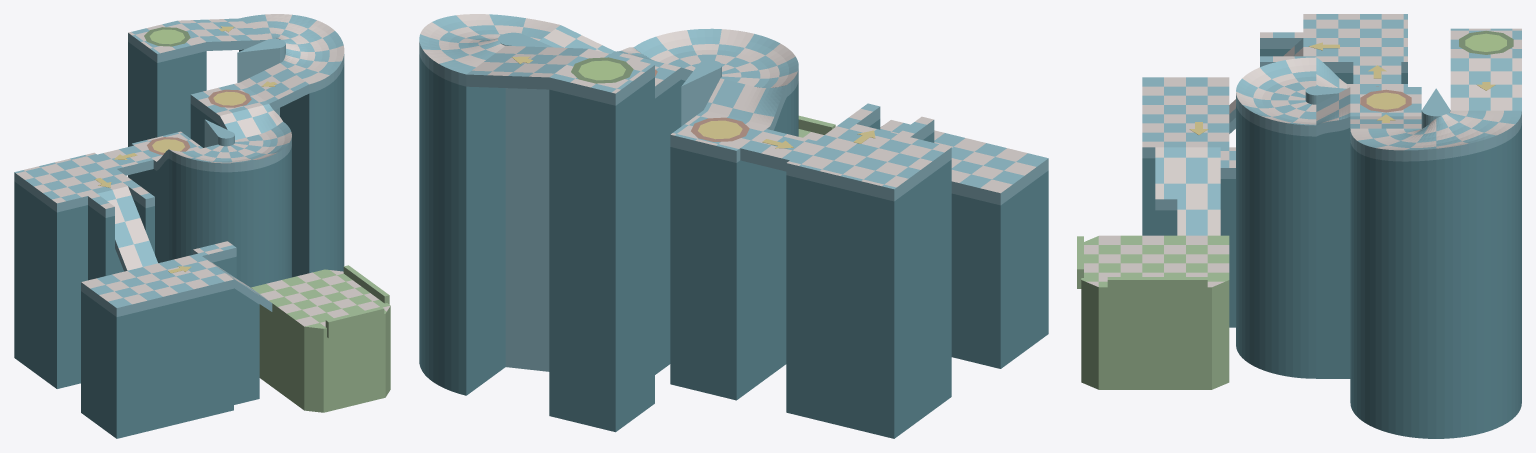
File: level2-desktop.glb
3 views of the same model, side by side, from view 1: azimuth 30°, elevation 25°; view 2: azimuth 150°, elevation 25°; view 3: azimuth 270°, elevation 25° (orthographic). The views are drawn at different scales.
Parts seen in each view (by area): view 1: 加宽中继实体塔台 · 实体台柱, 加宽陡降入口塔台 · 实体台柱, 半圆连接 · 外弧上翘 · 贴合曲面实体塔柱, 紧凑贴柱宽弯 · 贴合曲面实体塔柱, 绿色终点 · 实体台柱, 起点塔台 · 实体台柱, 加宽中继实体塔台, 绿色终点, 紧凑贴柱宽弯, 加宽陡降入口塔台, 半圆连接 · 外弧上翘, 第二方孔前侧斜低边 · 实体台柱 (+18 smaller); view 2: 加宽陡降入口塔台 · 实体台柱, 起点塔台 · 实体台柱, 紧凑贴柱宽弯 · 贴合曲面实体塔柱, 第二存档塔台 · 实体台柱, 加宽中继实体塔台 · 实体台柱, 贴弯尖脊 / 可用作侧墙 (×2), 加宽陡降入口塔台, 半圆连接 · 外弧上翘, 紧凑贴柱宽弯, 加宽中继实体塔台, 第一存档塔台 · 实体台柱, 回转后短斜坡 · 贴合曲面实体塔柱 (+9 smaller); view 3: 紧凑贴柱宽弯 · 贴合曲面实体塔柱, 半圆连接 · 外弧上翘 · 贴合曲面实体塔柱, 绿色终点 · 实体台柱, 回转前短斜坡 · 贴合曲面实体塔柱, 绿色终点, 加宽中继实体塔台, 紧凑贴柱宽弯, 加宽陡降入口塔台, 半圆连接 · 外弧上翘, 横向陡降槽, 短入口缓坡, 绿色终点护边 (+14 smaller).
Part boxes in pixels (box(x1,y1,x2,y2)): 加宽中继实体塔台 · 实体台柱: box(81, 288, 233, 438); 加宽陡降入口塔台 · 实体台柱: box(14, 181, 123, 388); 半圆连接 · 外弧上翘 · 贴合曲面实体塔柱: box(169, 146, 291, 287); 紧凑贴柱宽弯 · 贴合曲面实体塔柱: box(239, 49, 344, 277); 绿色终点 · 实体台柱: box(259, 304, 390, 412); 起点塔台 · 实体台柱: box(128, 42, 206, 179); 加宽中继实体塔台: box(81, 253, 233, 316); 绿色终点: box(251, 269, 390, 337); 紧凑贴柱宽弯: box(239, 14, 344, 93); 加宽陡降入口塔台: box(14, 152, 136, 212); 半圆连接 · 外弧上翘: box(169, 121, 291, 172); 第二方孔前侧斜低边 · 实体台柱: box(234, 288, 259, 404); 加宽陡降入口塔台 · 实体台柱: box(786, 160, 951, 438); 起点塔台 · 实体台柱: box(549, 77, 654, 432); 紧凑贴柱宽弯 · 贴合曲面实体塔柱: box(419, 54, 505, 395); 第二存档塔台 · 实体台柱: box(670, 147, 770, 400); 加宽中继实体塔台 · 实体台柱: box(951, 170, 1048, 368); 贴弯尖脊 / 可用作侧墙 (×2): box(498, 32, 721, 371); 加宽陡降入口塔台: box(786, 121, 951, 201); 半圆连接 · 外弧上翘: box(633, 28, 798, 96); 紧凑贴柱宽弯: box(419, 14, 560, 86); 加宽中继实体塔台: box(880, 120, 1048, 205); 第一存档塔台 · 实体台柱: box(655, 80, 680, 374); 回转后短斜坡 · 贴合曲面实体塔柱: box(770, 97, 786, 375); 紧凑贴柱宽弯 · 贴合曲面实体塔柱: box(1350, 123, 1521, 438); 半圆连接 · 外弧上翘 · 贴合曲面实体塔柱: box(1236, 104, 1316, 378); 绿色终点 · 实体台柱: box(1081, 291, 1229, 389); 回转前短斜坡 · 贴合曲面实体塔柱: box(1316, 128, 1350, 378); 绿色终点: box(1081, 235, 1229, 298); 加宽中继实体塔台: box(1142, 77, 1229, 158); 紧凑贴柱宽弯: box(1350, 110, 1521, 161); 加宽陡降入口塔台: box(1303, 14, 1407, 72); 半圆连接 · 外弧上翘: box(1236, 57, 1316, 136); 横向陡降槽: box(1177, 147, 1220, 235); 短入口缓坡: box(1450, 58, 1521, 110); 绿色终点护边: box(1107, 277, 1207, 299).
Bounding box in the file's own units: 10.97 × 7.82 × 10.22.
